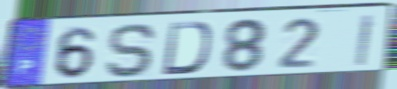2: (276, 16, 323, 70)
6: (54, 25, 100, 81)
8: (219, 17, 268, 75)
D: (159, 20, 213, 77)
I: (354, 13, 378, 68)
S: (104, 21, 159, 79)
